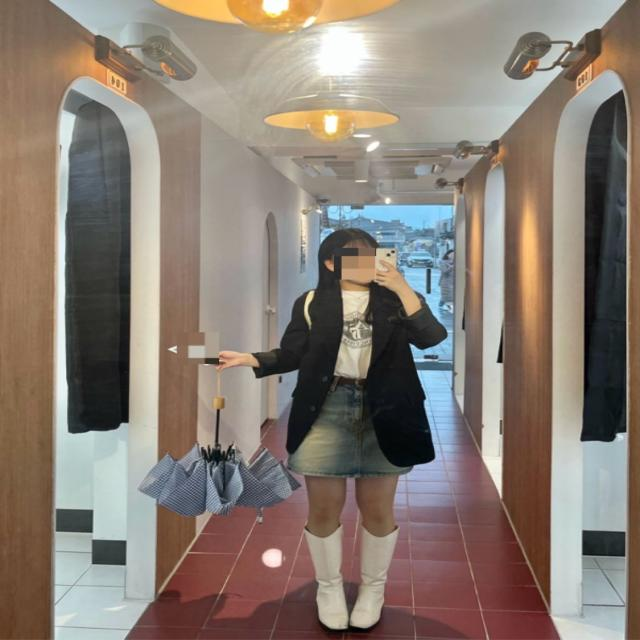blazer: (250, 286, 447, 472)
skirt: (286, 375, 416, 477)
